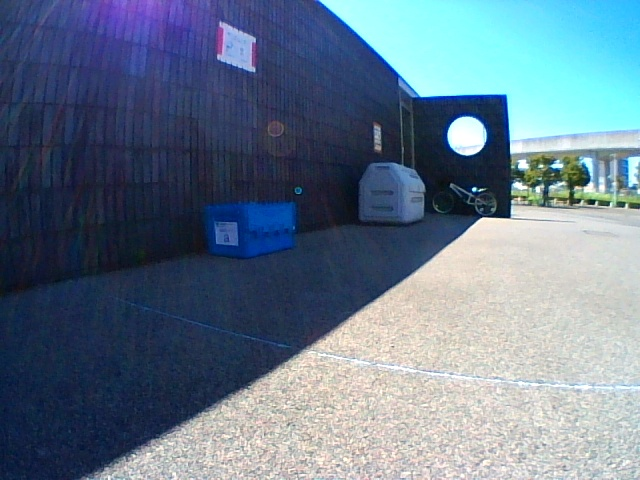blue_box: (205, 202, 296, 258)
tag_a: (216, 223, 237, 245)
